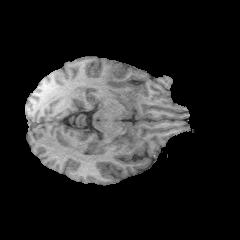glioma: (86, 58, 150, 102)
